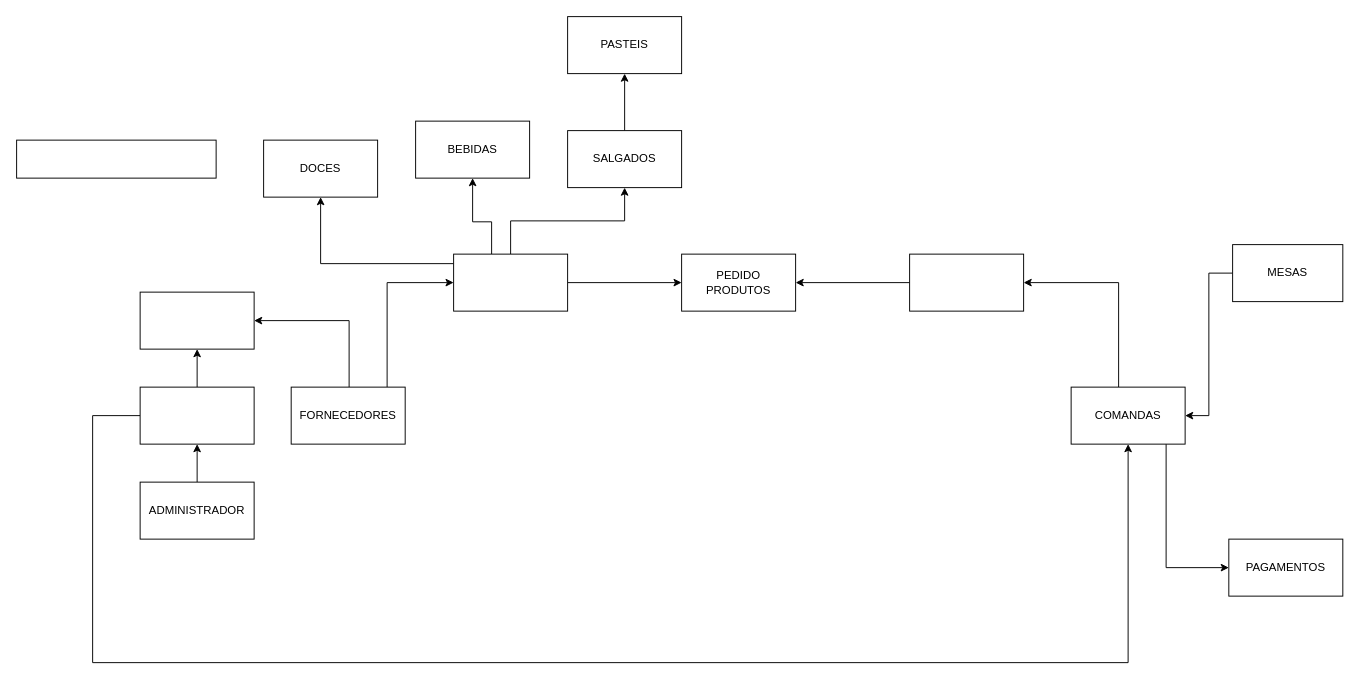
This 1359x687 diagram has some shape labels left out. Each missing label, with the centre of its shape:
"DB PASTELARIA" belongs at pixel 116 158.
"FUNCIONARIOS" belongs at pixel 196 415.
"PEDIDO" belongs at pixel 966 282.
"PRODUTOS" belongs at pixel 510 282.
"USUÁRIOS" belongs at pixel 196 320.
